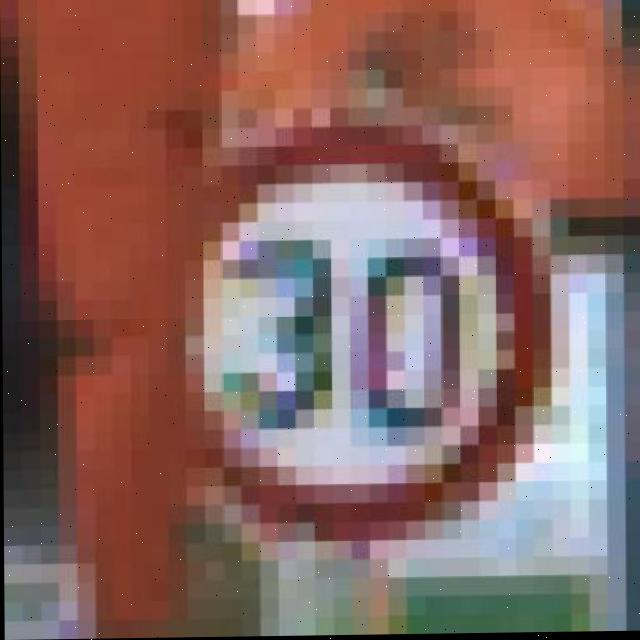Speed limit 30: (11, 1, 640, 639)
